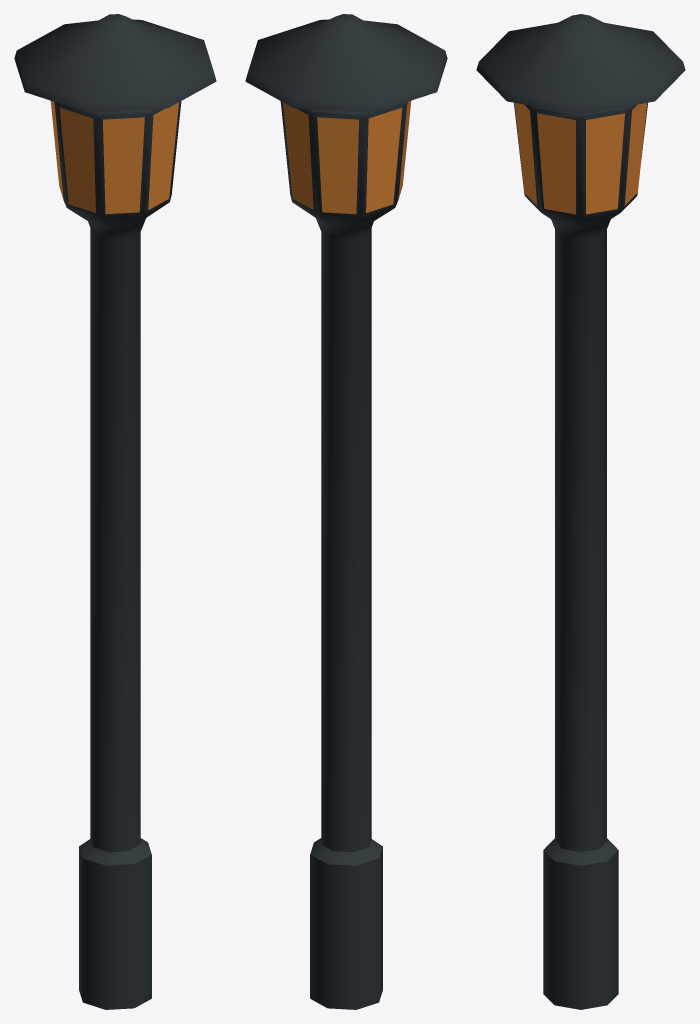
Rendered from outside_lantern.fbx.
3 views of the same model, side by side, from view 1: azimuth 30°, elevation 25°; view 2: azimuth 150°, elevation 25°; view 3: azimuth 270°, elevation 25° (orthographic).
Visible parts, largest first — view 1: outside_lantern; view 2: outside_lantern; view 3: outside_lantern.
Part boxes in pixels (left/top/right/bottom): outside_lantern: left=14, top=14, right=216, bottom=1009; outside_lantern: left=245, top=14, right=447, bottom=1009; outside_lantern: left=476, top=14, right=685, bottom=1009.
Size of the model in its own units: 85.03 by 85.03 by 437.
